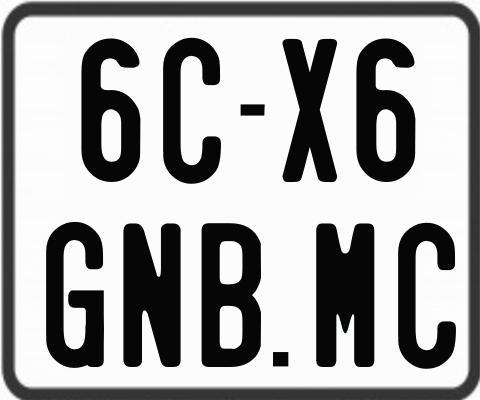6: (78, 36, 141, 181), (356, 36, 416, 182)
B: (199, 223, 258, 367)
C: (160, 37, 221, 186), (397, 222, 458, 369)
G: (46, 222, 109, 373)
M: (315, 222, 374, 369)
N: (123, 223, 185, 370)
X: (283, 37, 337, 185)
